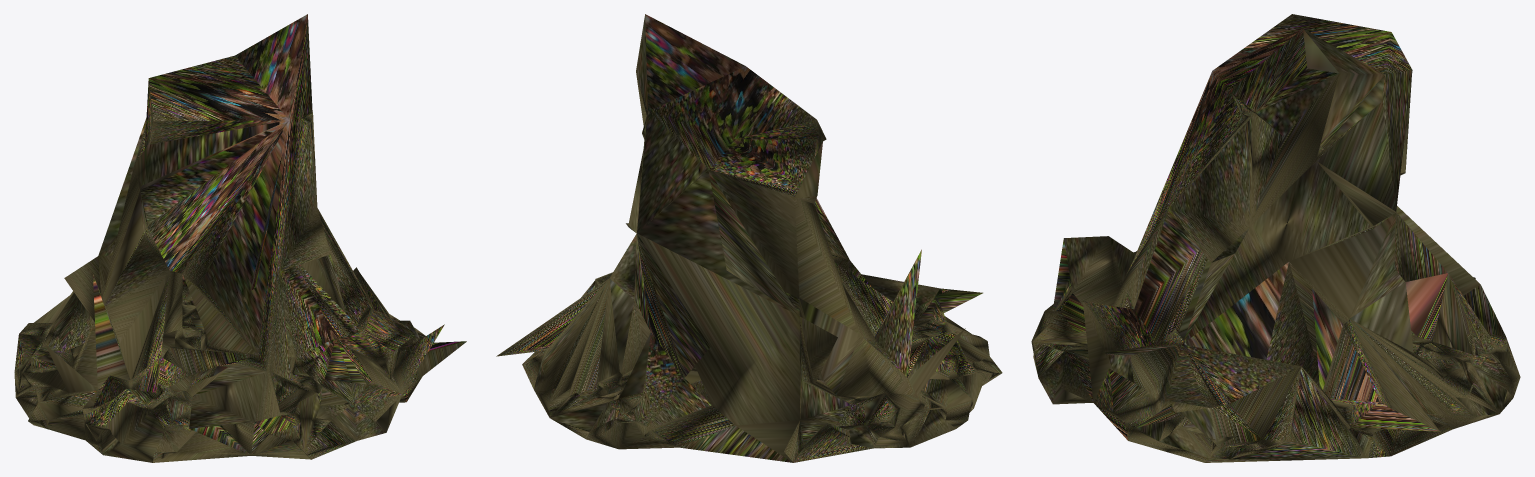
Rendered from a_stylized_stump_base.glb.
3 views of the same model, side by side, from view 1: azimuth 30°, elevation 25°; view 2: azimuth 150°, elevation 25°; view 3: azimuth 270°, elevation 25° (orthographic). The views are drawn at different scales.
Visible parts, largest first — view 1: a_stylized_stump_base; view 2: a_stylized_stump_base; view 3: a_stylized_stump_base.
Boxes of the visible parts, bbox=[...] form: a_stylized_stump_base: bbox=[14, 14, 466, 462]; a_stylized_stump_base: bbox=[496, 14, 1002, 462]; a_stylized_stump_base: bbox=[1031, 14, 1520, 462].
Size of the model in its own units: 1.57 by 1.33 by 1.48.
1 material, 1 textured.
